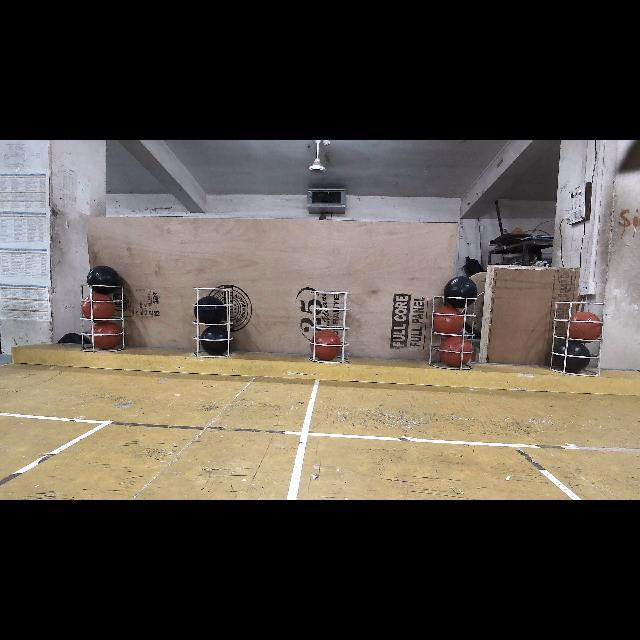P: (444, 277, 479, 308), (556, 341, 590, 372), (88, 264, 119, 296), (200, 325, 230, 353), (196, 298, 224, 326)
R: (566, 313, 604, 343), (442, 337, 471, 369), (311, 331, 341, 361), (92, 322, 122, 350), (84, 294, 115, 320), (435, 306, 463, 334)
S: (425, 298, 479, 372), (551, 301, 604, 375), (191, 284, 233, 359), (80, 281, 124, 349), (311, 292, 348, 362)
